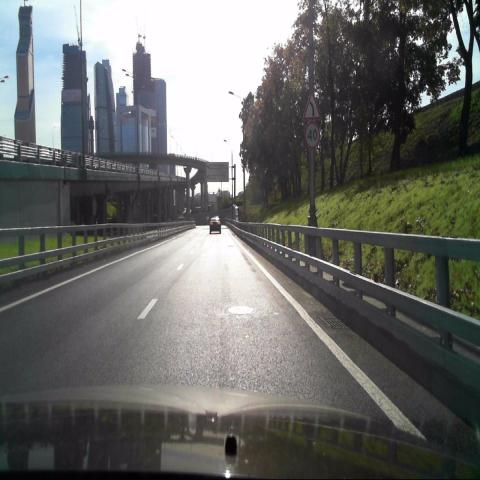1_11_1: (303, 88, 323, 123)
